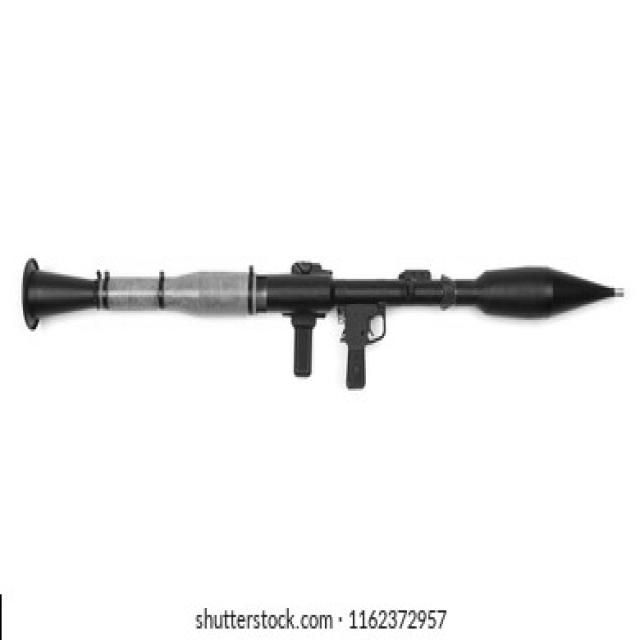Lancher: (15, 234, 638, 396)
